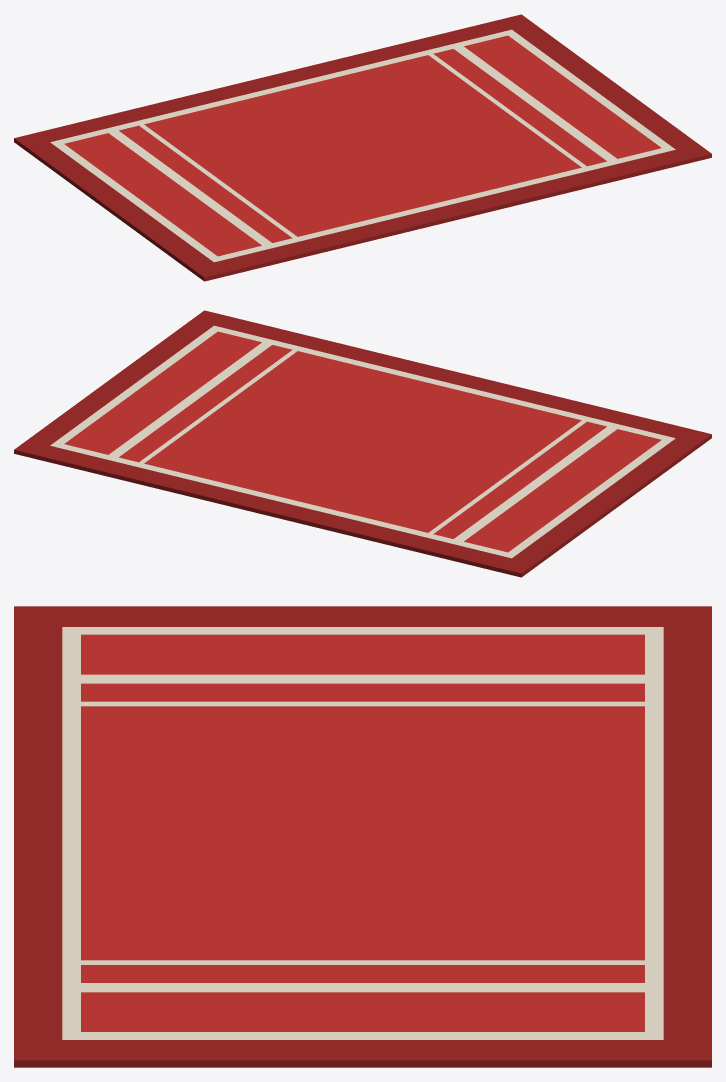
Rendered from Prop_RugRedStriped.fbx.
The picture shows the model from 3 angles, top to bottom: view 1: azimuth 30°, elevation 25°; view 2: azimuth 150°, elevation 25°; view 3: azimuth 270°, elevation 25°; orthographic projection. The views are drawn at different scales.
Visible parts, largest first — view 1: Prop_RugRedStriped; view 2: Prop_RugRedStriped; view 3: Prop_RugRedStriped.
Boxes of the visible parts, <box> form: Prop_RugRedStriped: <box>14,14,711,281</box>; Prop_RugRedStriped: <box>14,310,711,577</box>; Prop_RugRedStriped: <box>14,606,711,1067</box>.
Bounding box in the file's own units: 2 × 0.015 × 1.3.
